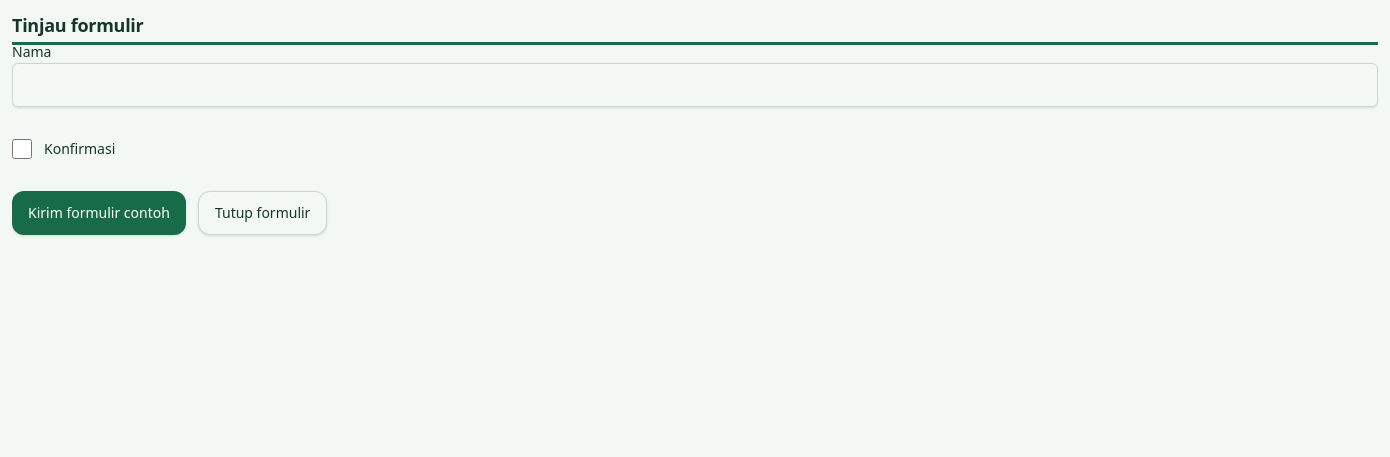
form announces field errors once while retaining checkbox, hidden, array, and root errors
The image size is (1390, 457).
What coordinates should you click on to do the following:
click the button "Kirim formulir contoh"
I would click on:
 (99, 213)
Its box is [12,191,186,235].
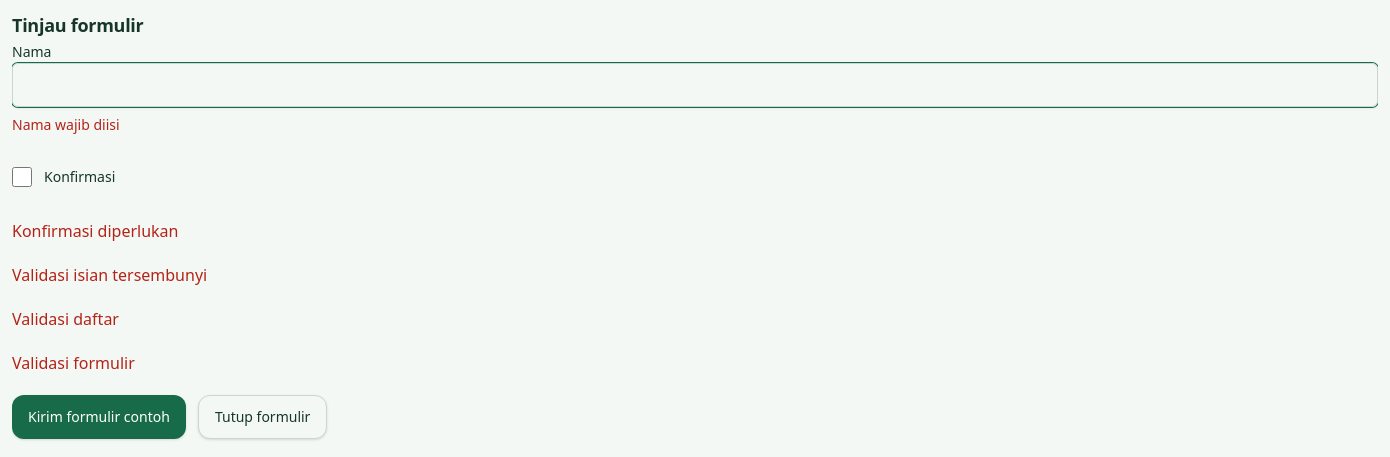
Result: the text "Nama wajib diisi" is shown once at [12,115,120,134]
Result: the text "Konfirmasi diperlukan" is shown once at [12,220,178,242]
Result: the text "Validasi isian tersembunyi" is shown once at [12,264,207,286]
